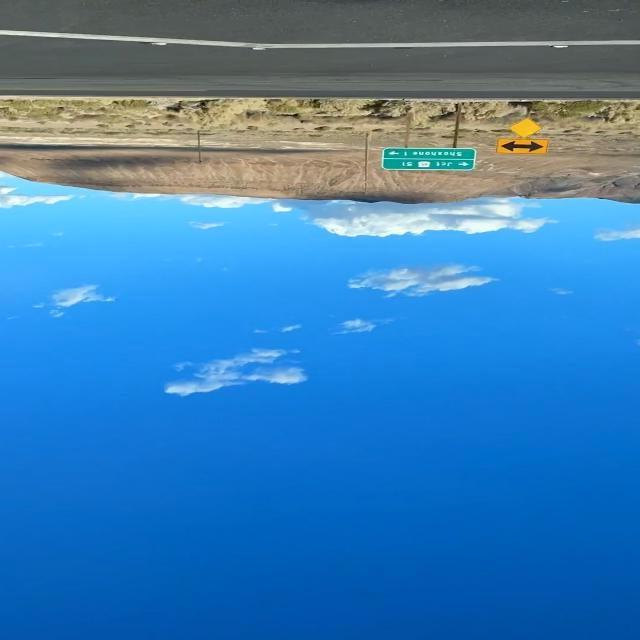lane: (0, 29, 640, 50)
road: (1, 1, 640, 98)
